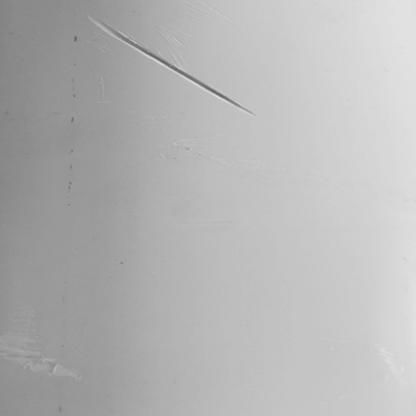sunshang: (89, 14, 254, 114), (1, 327, 77, 378)
